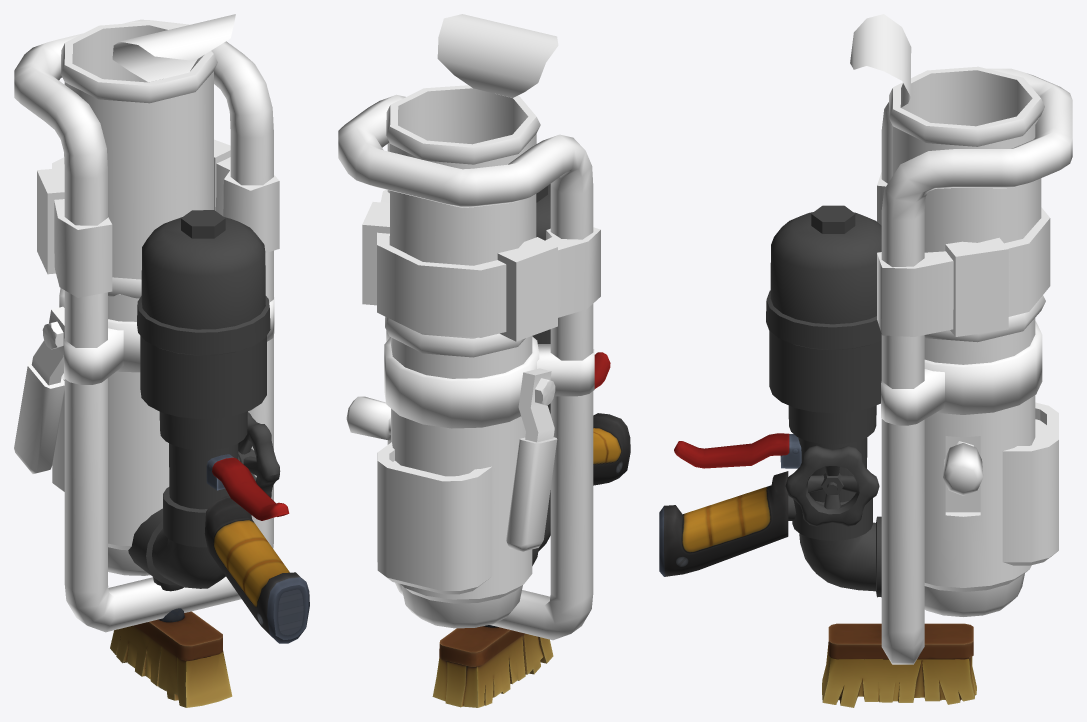
The model's file is Fant_Scrapgun_obj.fbx.
The picture shows the model from 3 angles, left to right: view 1: azimuth 30°, elevation 25°; view 2: azimuth 150°, elevation 25°; view 3: azimuth 270°, elevation 25°; orthographic projection.
Parts seen in each view (by area): view 1: fant_scrapgun; view 2: fant_scrapgun; view 3: fant_scrapgun.
Boxes of the visible parts, box(x1,y1,x2,y2) form: fant_scrapgun: box(14, 14, 309, 707); fant_scrapgun: box(338, 14, 630, 707); fant_scrapgun: box(659, 14, 1072, 707).
Size of the model in its own units: 130 by 378 by 216.
